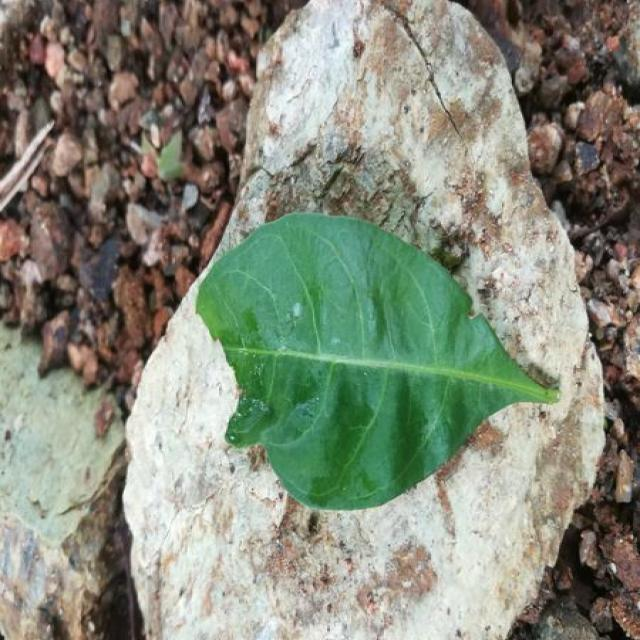henna: (197, 214, 557, 509)
